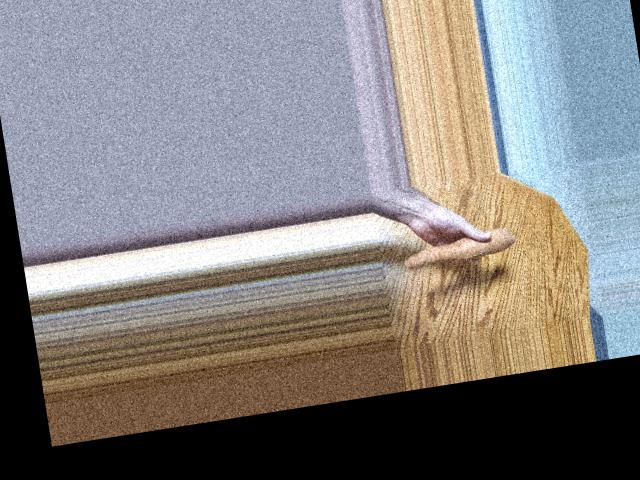sweet_potato: (397, 230, 515, 273)
